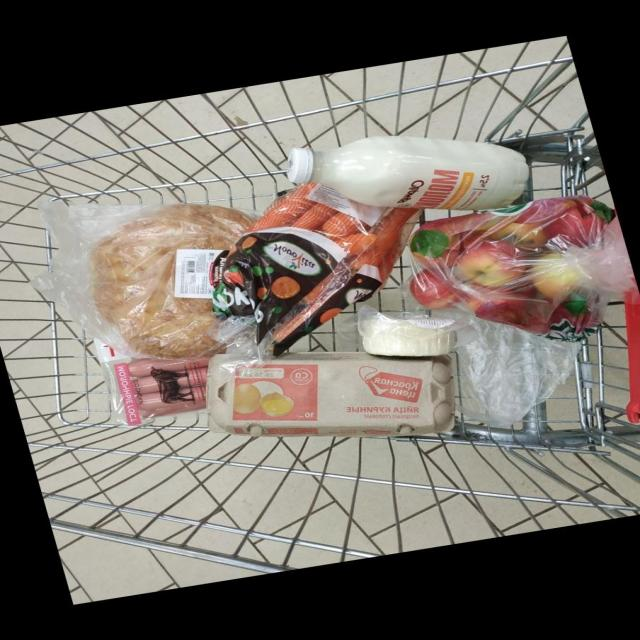Apple: (456, 241, 524, 287), (543, 208, 607, 246), (531, 253, 579, 299), (408, 269, 460, 309), (492, 223, 547, 249)
Bread: (90, 203, 251, 359)
Carrot: (247, 183, 315, 232), (358, 208, 415, 266), (269, 308, 311, 343), (293, 203, 335, 229), (320, 212, 358, 238), (338, 233, 375, 254), (379, 253, 398, 282)
Cheese: (359, 315, 456, 356)
Eggs: (206, 351, 454, 437)
Milk: (286, 135, 528, 210)
Sausages: (102, 357, 209, 426)
